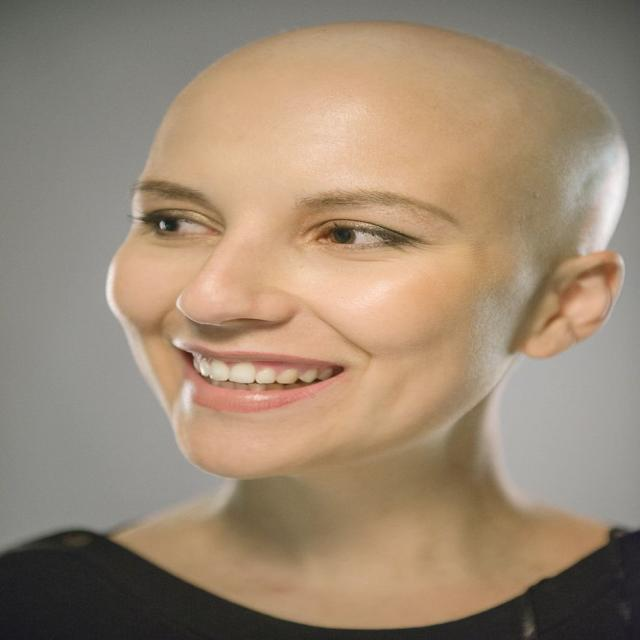no_helmet: (68, 5, 640, 232)
